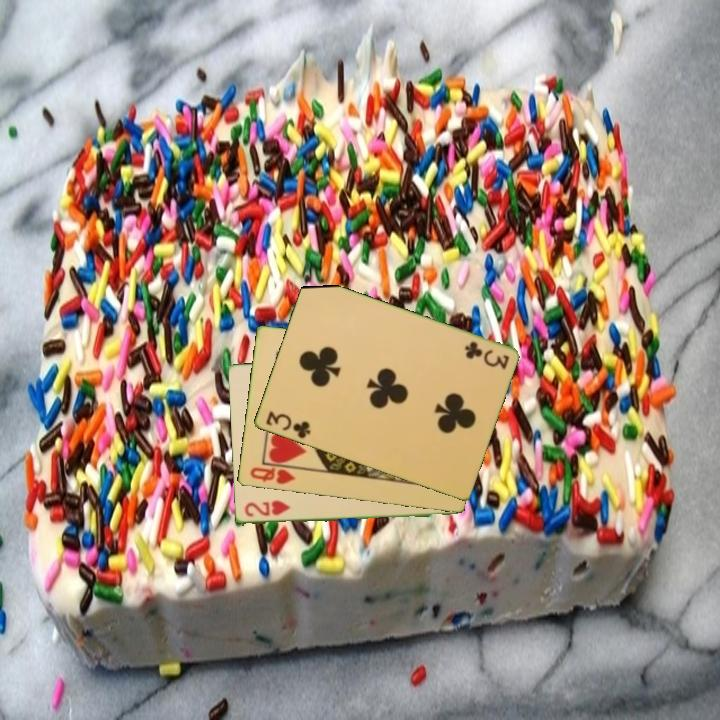2h: (241, 498, 293, 520)
3c: (262, 408, 313, 442), (461, 338, 512, 372)
Qh: (246, 461, 301, 487)
